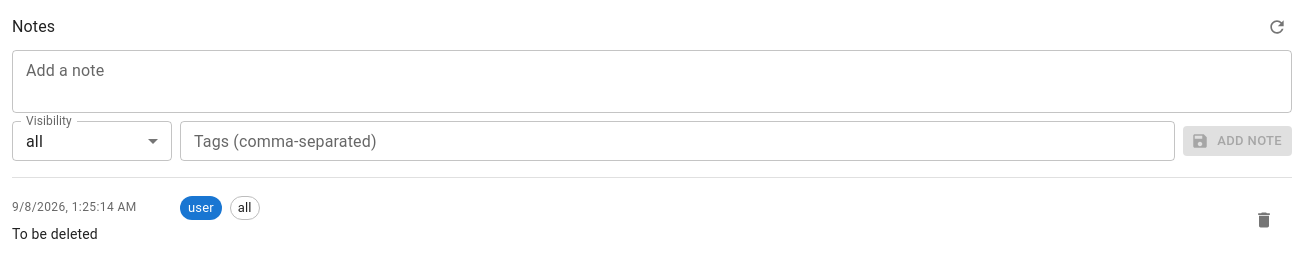
NotesPanel › deletes a note from the list after confirmation
This screenshot has width=1304, height=271.
Check: the list item with test id "note-5" is shown, box [12, 186, 1292, 254]
Click the button with test id "note-5-delete" at (1264, 220), box [1249, 205, 1279, 235]
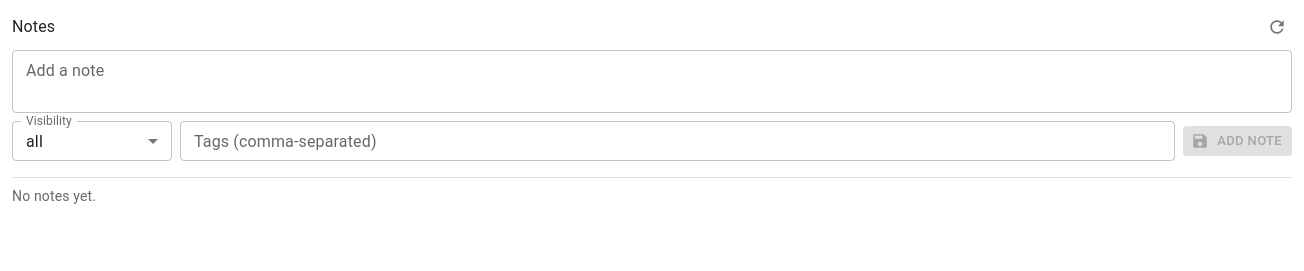
Check: the list item with test id "note-5" is gone
